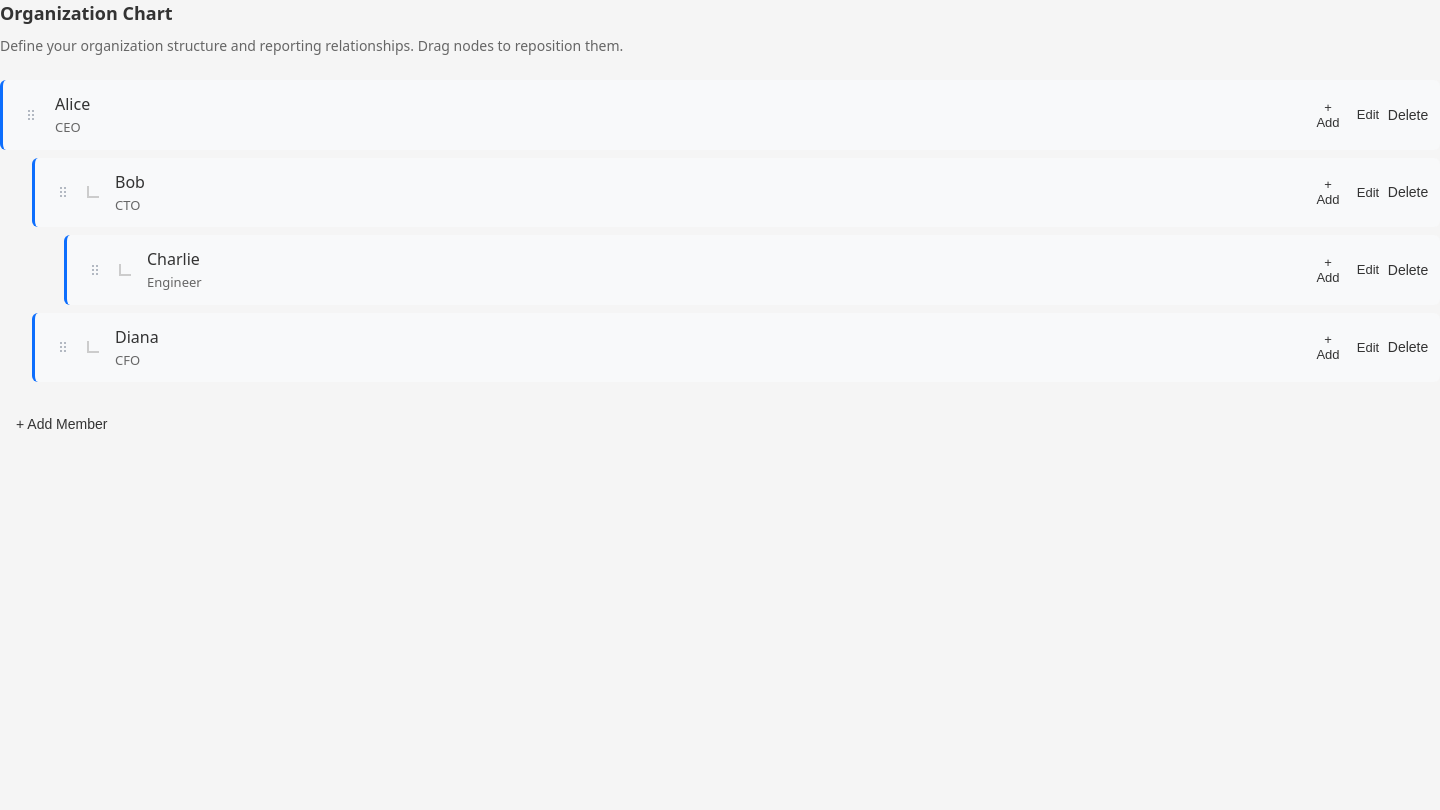
it: OrgChartEditor › Deleting nodes › shows child count warning for nodes with children
The width and height of the screenshot is (1440, 810).
# Delete Alice who has 3 descendants (Bob, Charlie, Diana)
Click the button with aria-label "Delete Alice": (1408, 115) x1=1392 y1=99 x2=1424 y2=131
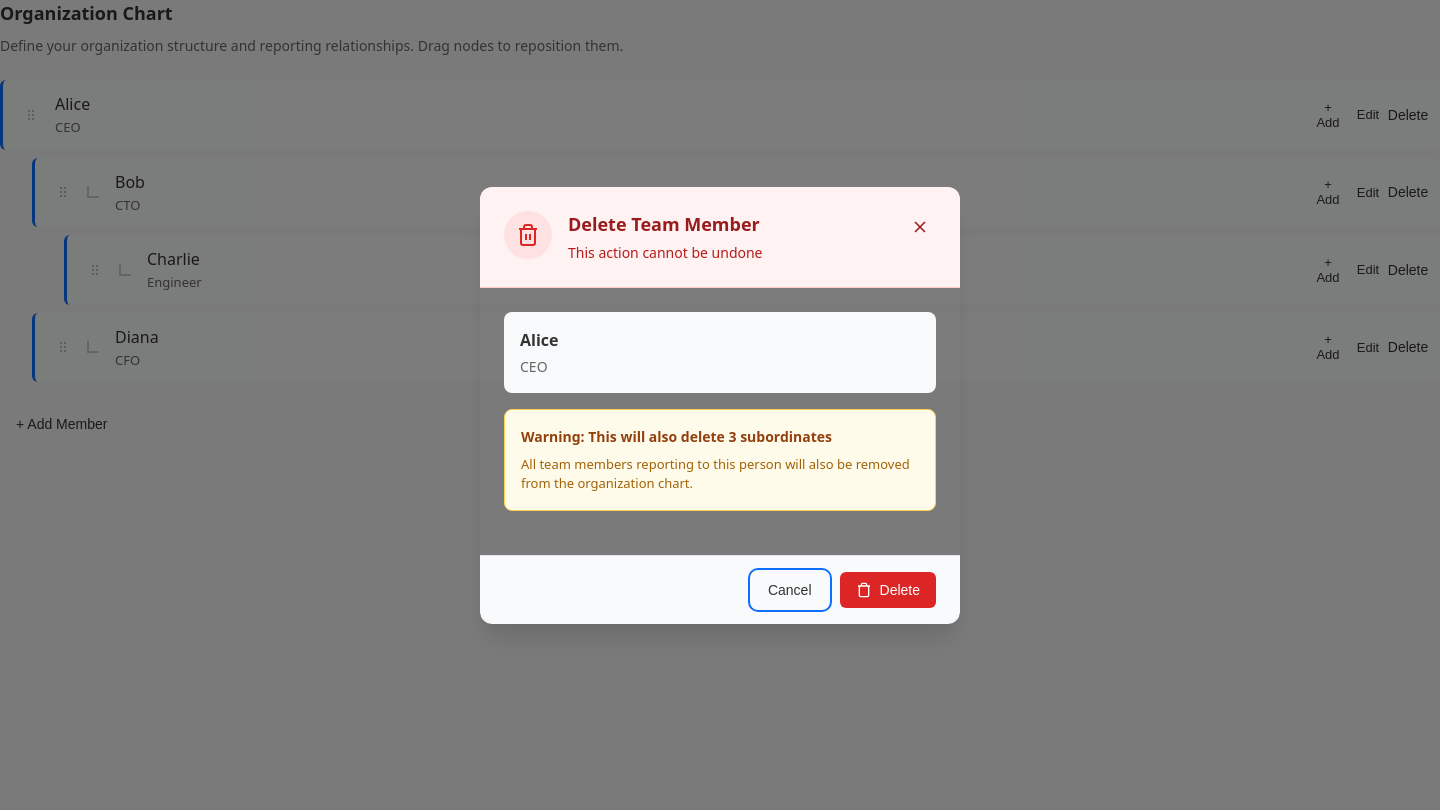
Check: the heading "Warning: This will also delete 3 subordinates" is shown, box x1=521 y1=426 x2=832 y2=446
